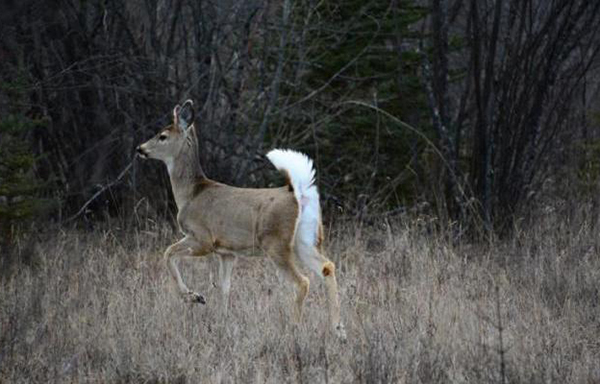Deer: (129, 98, 343, 322)
